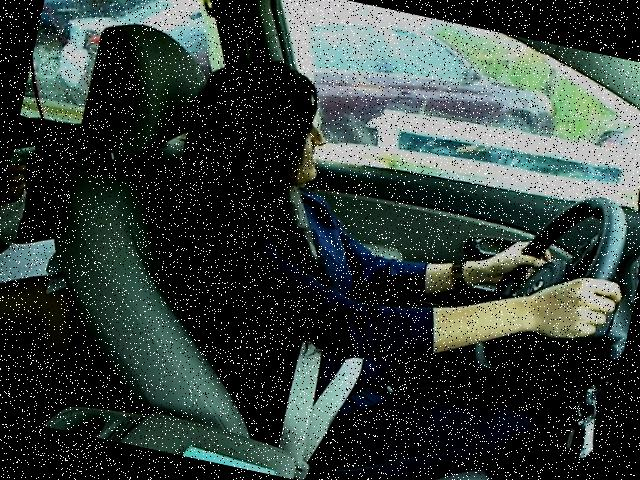c0 - Safe Driving: (137, 44, 639, 427)
